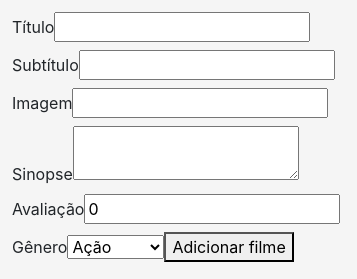
Test: 12 - Renderize um `input` do tipo `number` dentro do formulário em `<AddMovie />` para obter a avaliação do novo filme › Altere o valor do input de avaliação quando algo é digitado nele
In the number field with test id "rating-input": [212, 209] box 84,194 -> 340,224, type "1.5"
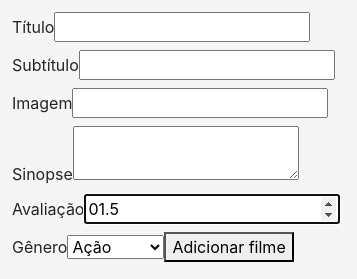
Now the number field with test id "rating-input" holds "1.5", box 84,194 -> 340,224
